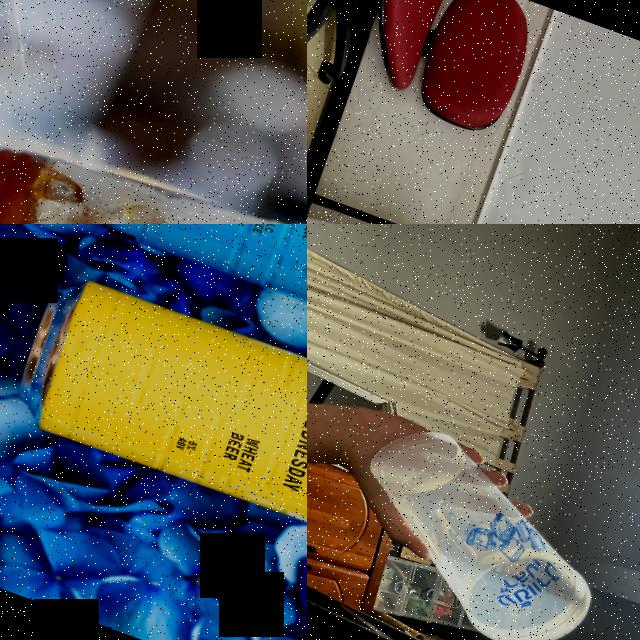can: (2, 264, 307, 562), (73, 224, 307, 366)
cup: (324, 413, 630, 640), (0, 100, 307, 224)
